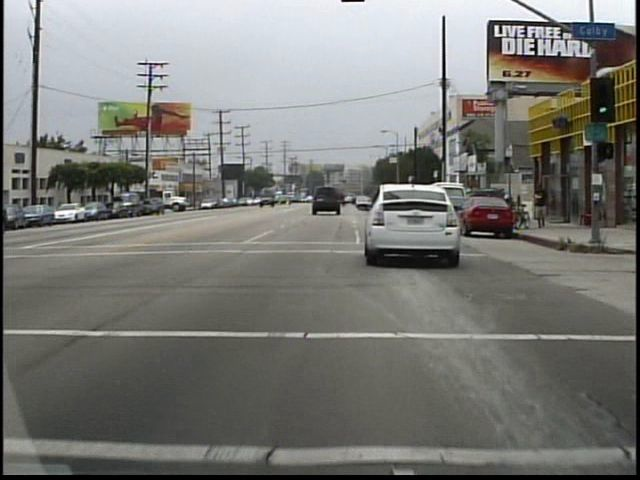person: (533, 177, 554, 232)
